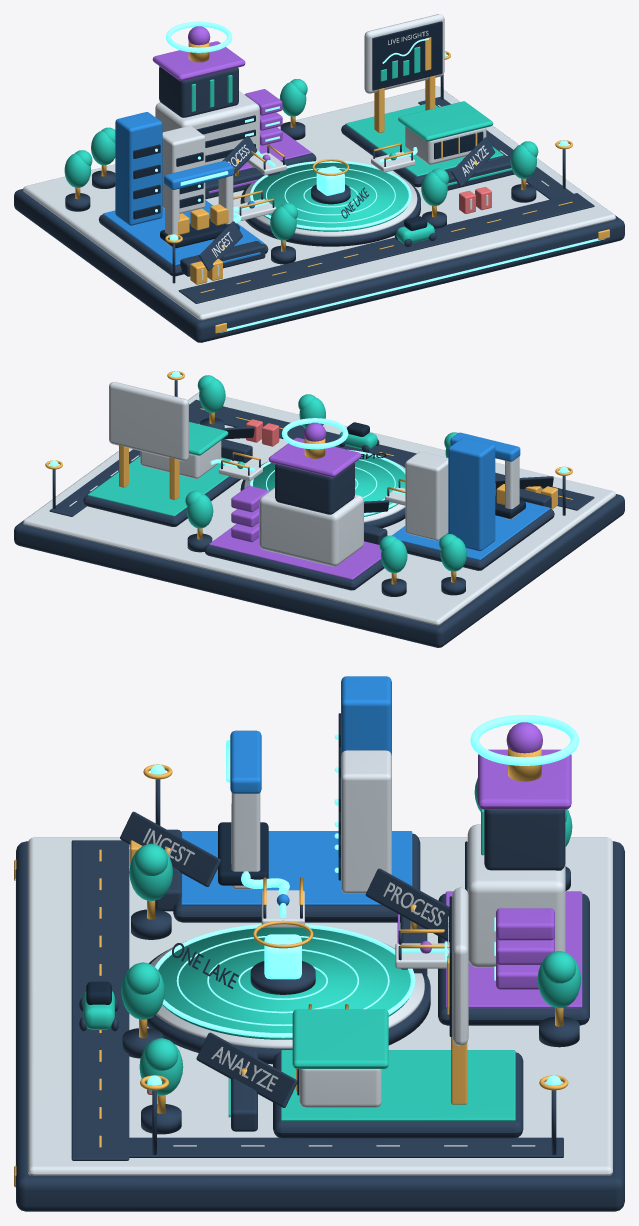
Rendered from 01-fabric-data-city.glb.
3 renders of one model, top to bottom at view 1: azimuth 30°, elevation 25°; view 2: azimuth 150°, elevation 25°; view 3: azimuth 270°, elevation 25°, orthographic. The views are drawn at different scales.
Visible parts, largest first — view 1: Porcelain city surface, Data city floating foundation, Front data avenue, Shared luminous teal lake, Ingest blue server tower, Analyze dashboard dark display, Process compute lower volume, Process compute upper volume, Analyze pavilion teal roof, Analyze district inset, Ingest district inset, Ingest white server tower (+37 smaller); view 2: Porcelain city surface, Data city floating foundation, Process compute lower volume, Analyze dashboard frame, Ingest blue server tower, Analyze district inset, Ingest white server tower, Process compute upper volume, Front data avenue, Process district inset, Shared luminous teal lake, Process district plinth (+28 smaller); view 3: Porcelain city surface, Data city floating foundation, Front data avenue, Shared luminous teal lake, Analyze district inset, East district lane, Ingest district inset, Ingest white server tower, Process compute lower volume, Analyze pavilion teal roof, Analyze district plinth, Process compute upper volume (+41 smaller).
Part boxes in pixels (<box>): Porcelain city surface: <box>23,86,615,320</box>; Data city floating foundation: <box>14,189,624,342</box>; Front data avenue: <box>178,193,594,303</box>; Shared luminous teal lake: <box>253,163,408,231</box>; Ingest blue server tower: <box>115,112,162,225</box>; Analyze dashboard dark display: <box>372,21,442,90</box>; Process compute lower volume: <box>155,91,259,165</box>; Process compute upper volume: <box>159,66,238,117</box>; Analyze pavilion teal roof: <box>398,101,493,141</box>; Analyze district inset: <box>345,104,503,176</box>; Ingest district inset: <box>103,200,263,265</box>; Ingest white server tower: <box>162,126,205,213</box>; Porcelain city surface: <box>23,392,615,625</box>; Data city floating foundation: <box>14,494,624,647</box>; Process compute lower volume: <box>259,487,363,566</box>; Analyze dashboard frame: <box>109,382,188,461</box>; Ingest blue server tower: <box>448,437,495,551</box>; Analyze district inset: <box>88,456,231,516</box>; Ingest white server tower: <box>405,451,448,540</box>; Process compute upper volume: <box>275,463,354,514</box>; Front data avenue: <box>189,399,594,510</box>; Process district inset: <box>209,524,381,579</box>; Shared luminous teal lake: <box>253,454,405,516</box>; Process district plinth: <box>204,544,384,590</box>; Porcelain city surface: <box>27,837,612,1175</box>; Data city floating foundation: <box>16,841,624,1211</box>; Front data avenue: <box>71,840,129,1160</box>; Shared luminous teal lake: <box>158,928,410,1039</box>; Analyze district inset: <box>281,1050,515,1121</box>; East district lane: <box>112,1137,563,1157</box>; Ingest district inset: <box>181,831,412,905</box>; Ingest white server tower: <box>341,750,391,893</box>; Process compute lower volume: <box>467,824,565,967</box>; Analyze pavilion teal roof: <box>292,1009,388,1068</box>; Analyze district plinth: <box>273,1052,523,1138</box>; Process compute upper volume: <box>484,809,565,870</box>.
Bounding box in the file's own units: 12 × 4.46 × 9.03.
